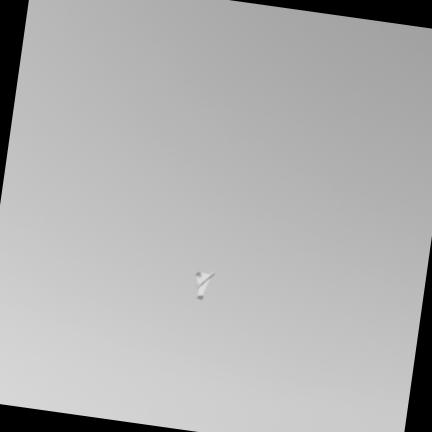Shahed: (195, 272, 214, 298)
